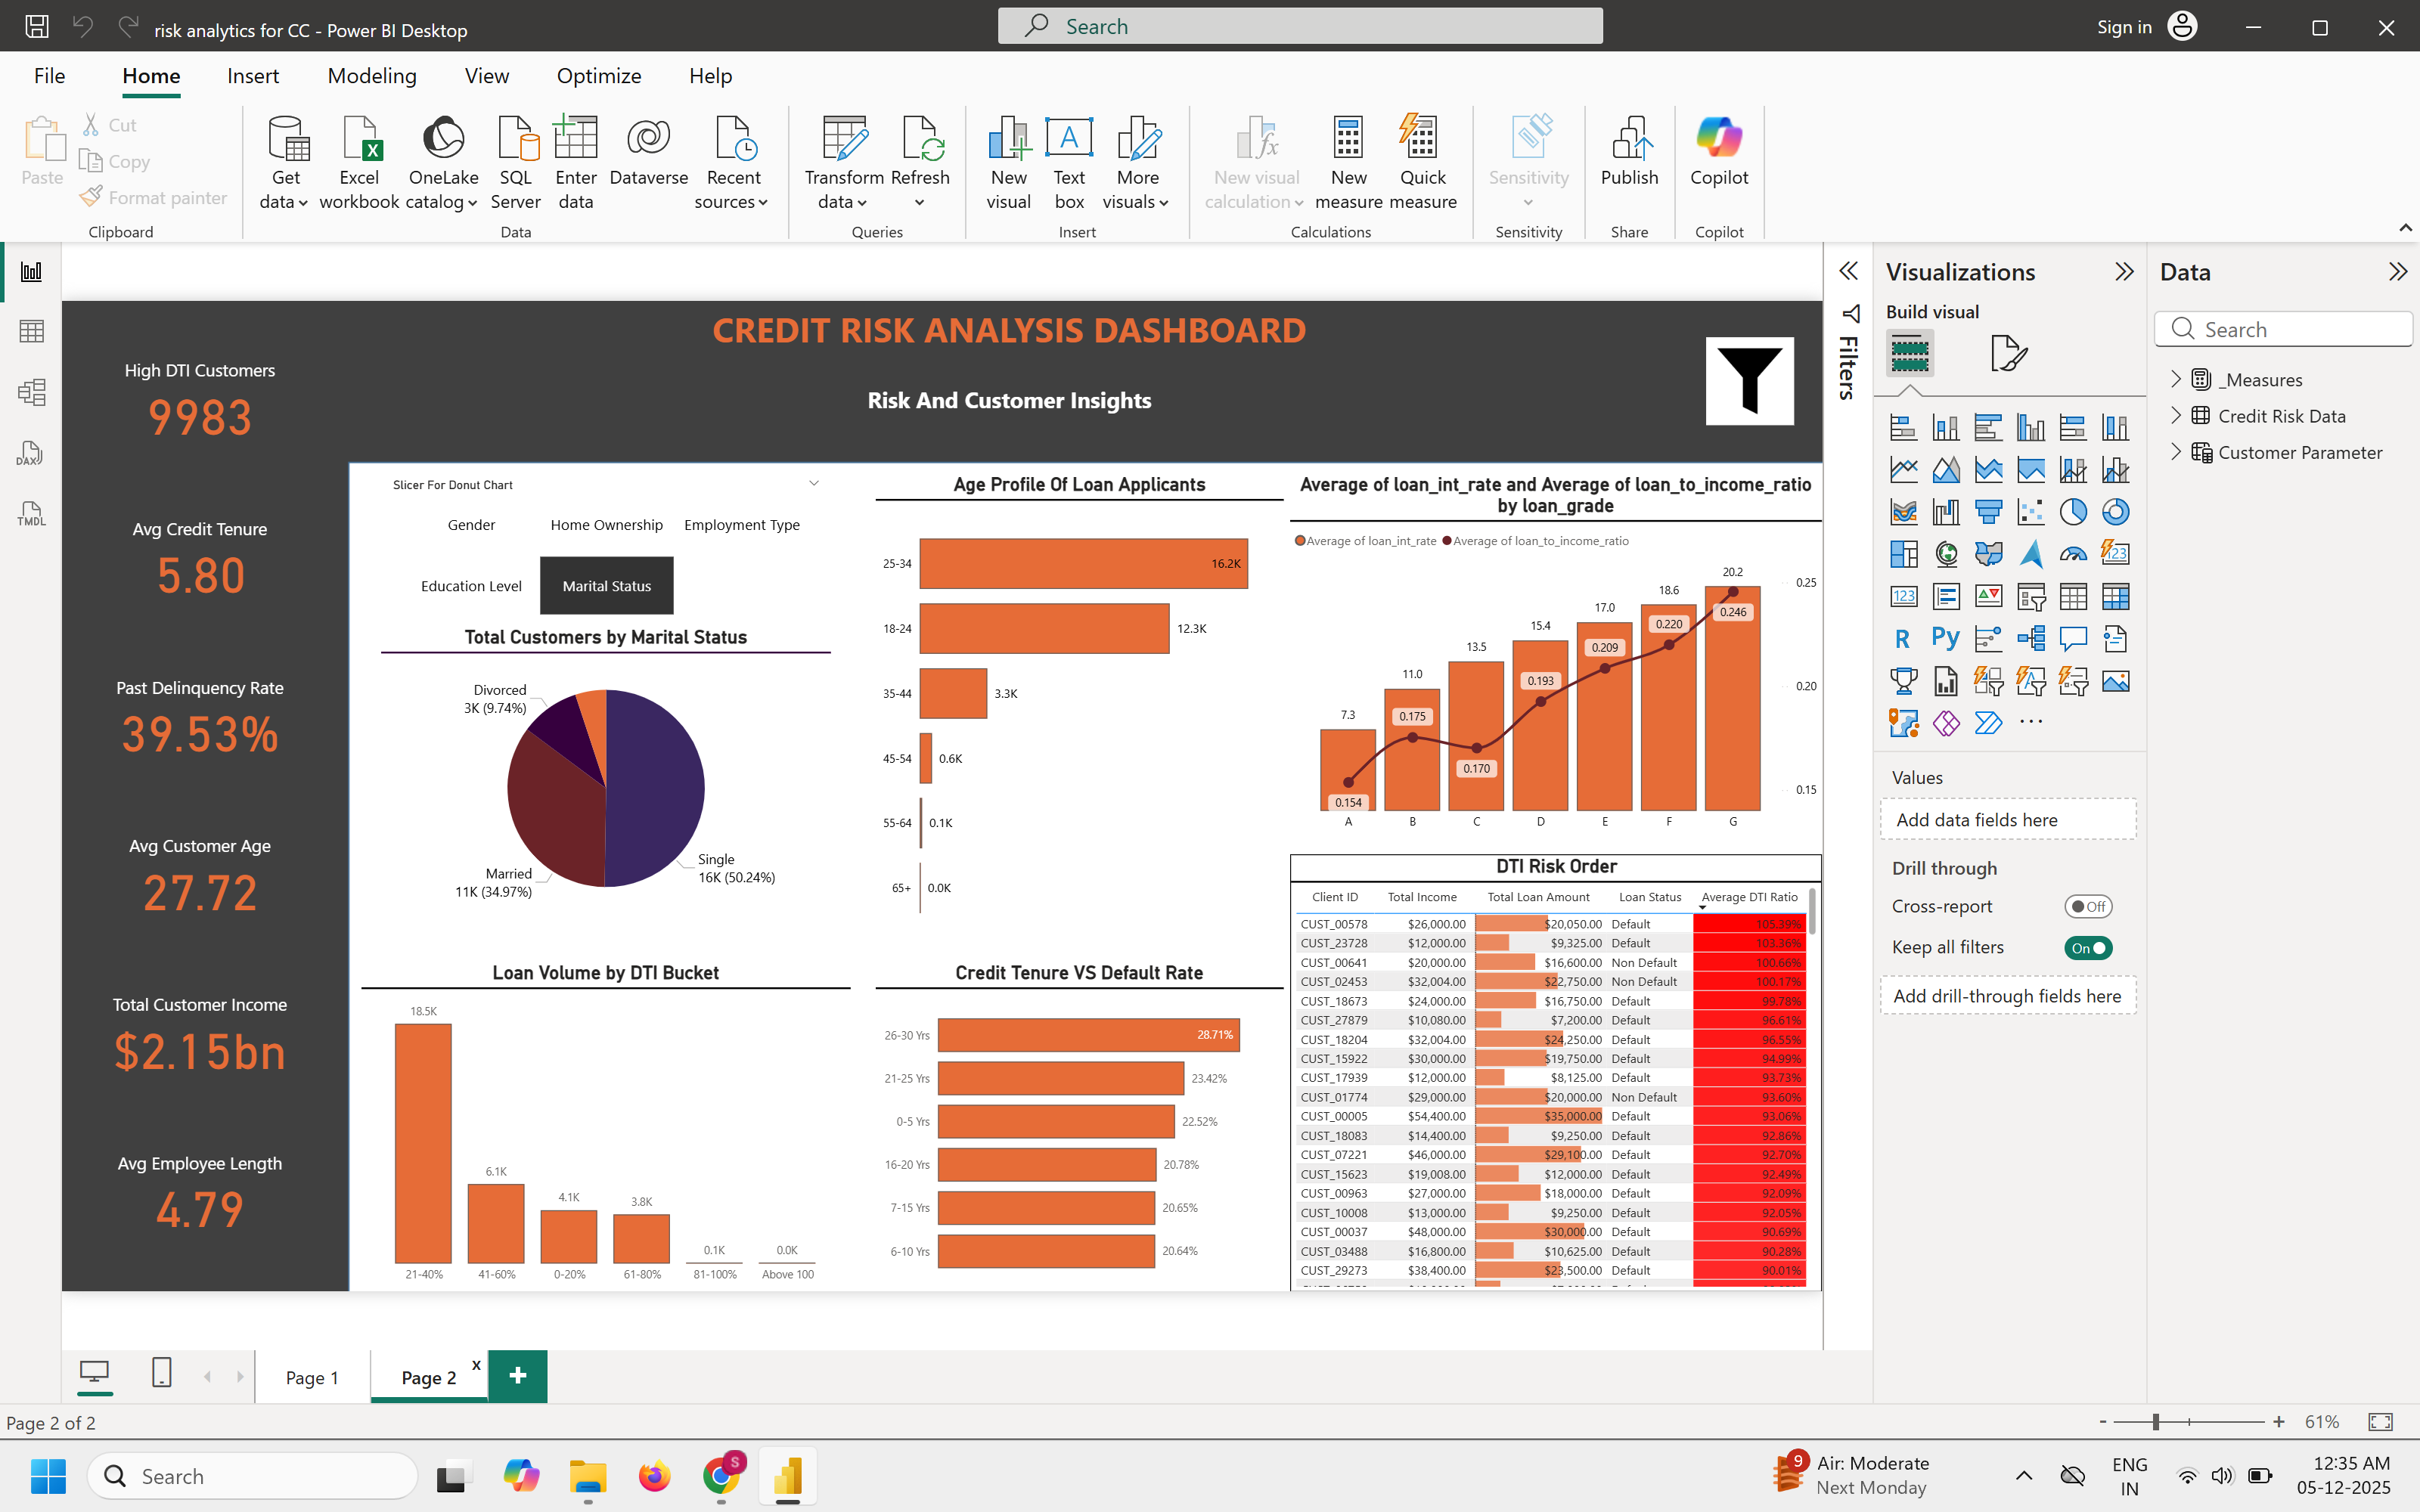

Layout of this report page (visuals, bound fields, positions):
{"tool":"powerbi","page":{"name":"Page 2","canvas":[1920,1080],"ordinal":1},"visuals":[{"type":"cardVisual","fields":{"Data":["_Measures.High DTI Customers","_Measures.Avg Credit Tenure","_Measures.Past Delinquency Rate","_Measures.Avg Customer Age","_Measures.Total Customer Income","_Measures.Avg Employee Length"]},"box":[0,18.1,301.9,1050.7],"z":0},{"type":"shape","box":[327.2,187.7,533.6,514.9],"z":1000},{"type":"slicer","fields":{"Values":["Customer Parameter.Customer Parameter"]},"box":[348.6,187.7,490.7,160.9],"z":2000},{"type":"pieChart","fields":{"Category":["Credit Risk Data.marital_status"],"Y":["_Measures.Total Customers"]},"box":[348.6,354,490.7,324.5],"z":3000},{"type":"clusteredColumnChart","fields":{"Category":["Credit Risk Data.DTI Bucket"],"Y":["_Measures.Loan Volume"]},"box":[327.2,721.3,533.6,359.3],"z":4000},{"type":"clusteredBarChart","title":"Age Profile Of Loan Applicants","fields":{"Category":["Credit Risk Data.Age Group"],"Y":["_Measures.Loan Volume"]},"box":[887.6,187.7,445.1,514.9],"z":5000},{"type":"clusteredBarChart","title":"Credit Tenure VS Default Rate","fields":{"Category":["Credit Risk Data.Credit Tenure"],"Y":["_Measures.Default Rate"]},"box":[887.6,721.3,445.1,359.3],"z":6000},{"type":"lineClusteredColumnComboChart","fields":{"Category":["Credit Risk Data.loan_grade"],"Y":["Avg(Credit Risk Data.loan_int_rate)"],"Y2":["Avg(Credit Risk Data.loan_to_income_ratio)"]},"box":[1339.9,188.4,580.1,398.1],"z":7000},{"type":"tableEx","title":"DTI Risk Order","fields":{"Values":["Credit Risk Data.client_ID","_Measures.Total Customer Income","_Measures.Total Loan Amount","Credit Risk Data.Loan Status","_Measures.Average DTI Ratio"]},"box":[1339.9,603.6,580.1,477.3],"z":8000},{"type":"textbox","box":[301.9,0,1463.1,140.2],"z":9000},{"type":"image","box":[1788,35,106,106],"z":12000}]}

Visuals, with their boxes on the page's 1920x1080 design canvas (x1, y1, x2, y2). These are canvas units, not pixel positions in the 2420x1512 screenshot, which may show the page scaled, cropped or inside an application window:
cardVisual - _Measures.High DTI Customers x _Measures.Avg Credit Tenure: box=[0, 18, 302, 1069]
shape: box=[327, 188, 861, 703]
slicer - Customer Parameter.Customer Parameter: box=[349, 188, 839, 349]
pieChart - Credit Risk Data.marital_status x _Measures.Total Customers: box=[349, 354, 839, 678]
clusteredColumnChart - Credit Risk Data.DTI Bucket x _Measures.Loan Volume: box=[327, 721, 861, 1081]
"Age Profile Of Loan Applicants" clusteredBarChart: box=[888, 188, 1333, 703]
"Credit Tenure VS Default Rate" clusteredBarChart: box=[888, 721, 1333, 1081]
lineClusteredColumnComboChart - Credit Risk Data.loan_grade x Avg(Credit Risk Data.loan_int_rate): box=[1340, 188, 1920, 586]
"DTI Risk Order" tableEx: box=[1340, 604, 1920, 1081]
textbox: box=[302, 0, 1765, 140]
image: box=[1788, 35, 1894, 141]
